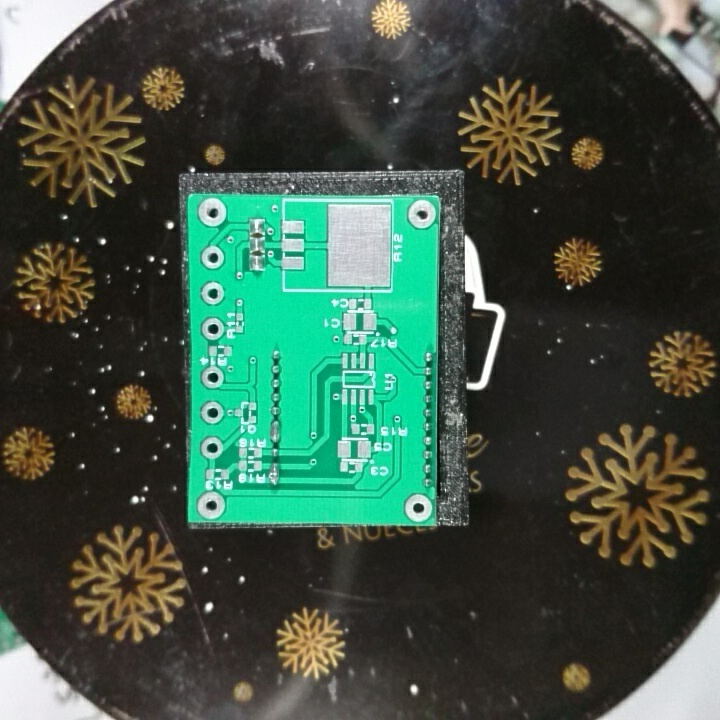F: (194, 486, 229, 518), (406, 198, 437, 231), (197, 196, 228, 228), (402, 492, 434, 523), (198, 400, 227, 428), (197, 433, 225, 462), (199, 279, 227, 307), (200, 362, 224, 392), (199, 243, 225, 270), (201, 316, 225, 340)
P: (268, 418, 283, 445), (266, 460, 281, 486)
